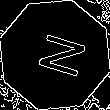N_W: (25, 28, 85, 82)
